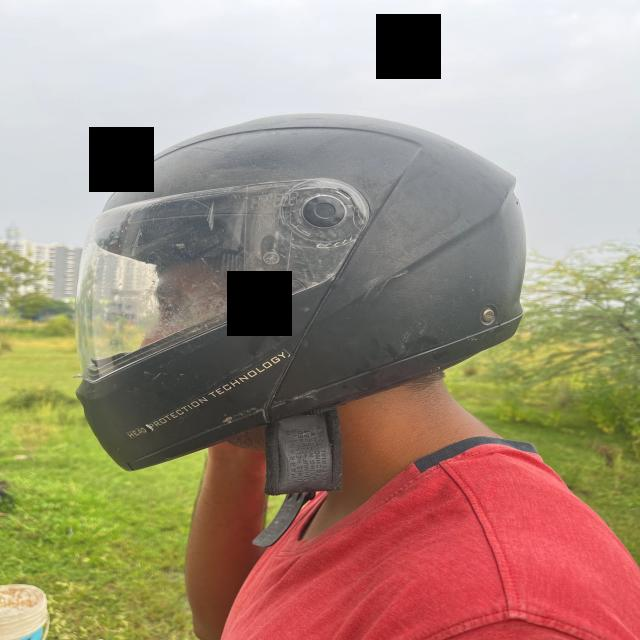Helmet: (77, 115, 525, 470)
